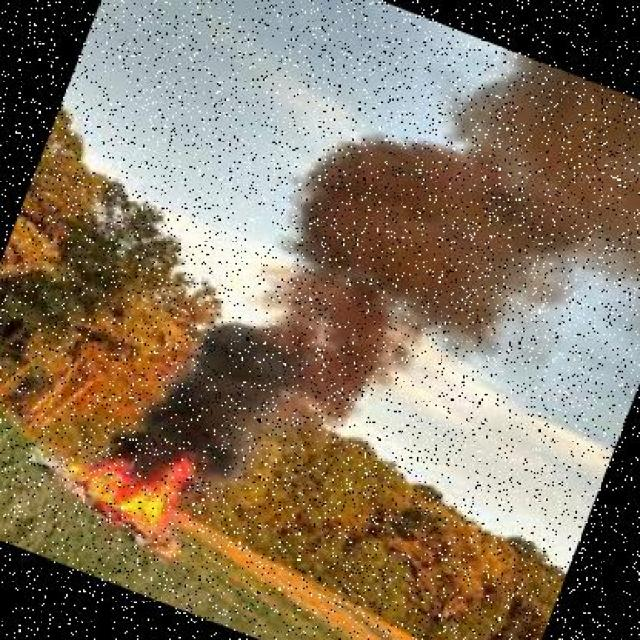fire: (43, 394, 231, 560)
